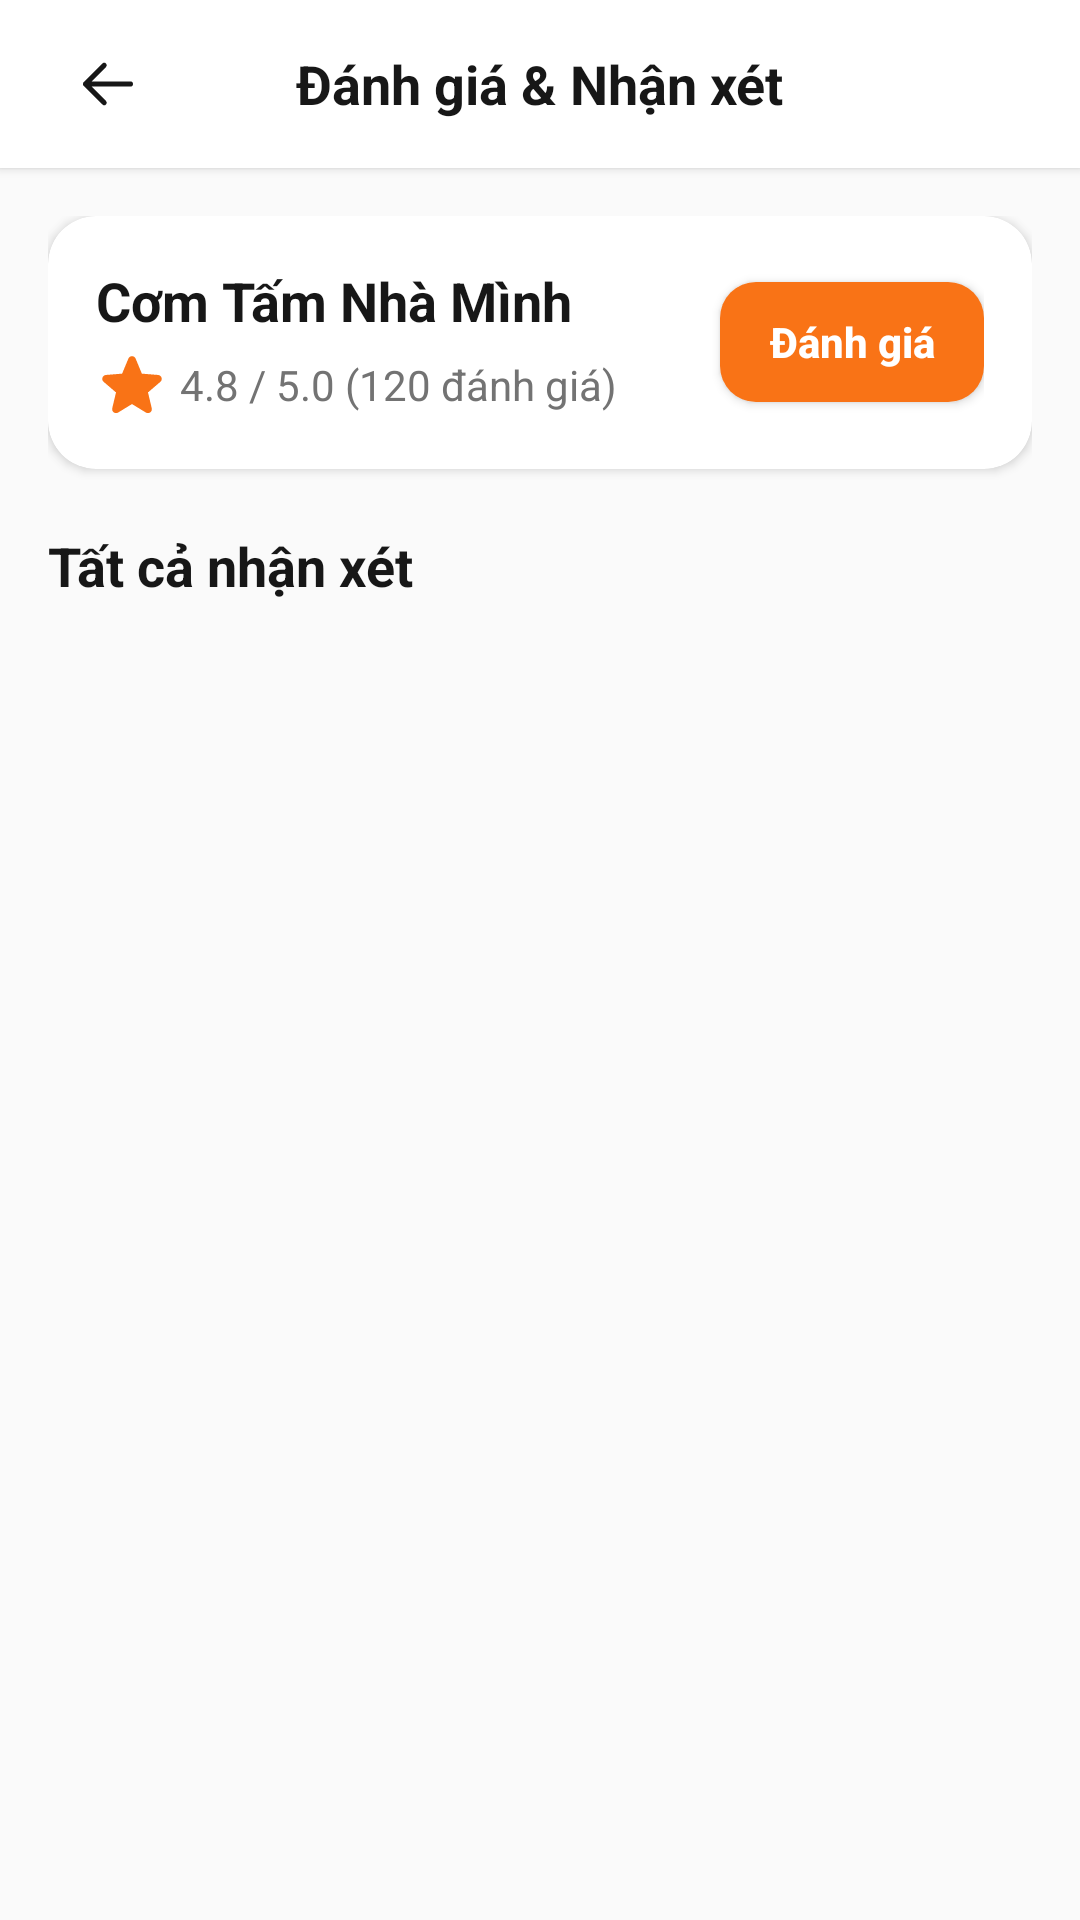

Screen size 1080x1920. Icon name, then its box in pixels as (x1, y1, x2, y2):
arrow left: (83, 62, 133, 106)
